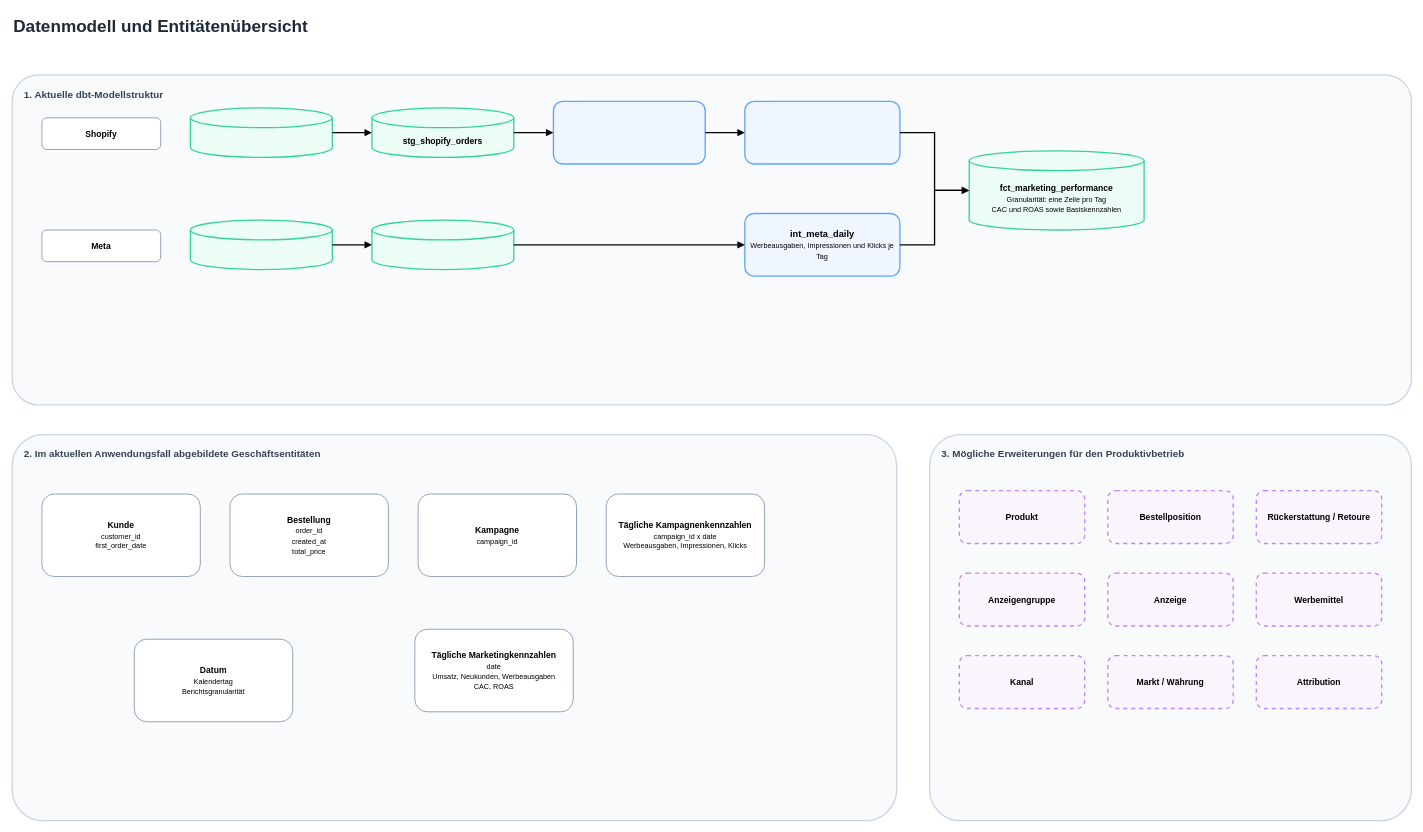
This 1423x832 diagram has some shape labels left out. The centre of each missing label's shape, as x and y in pixels:
int_customer_first_order erstes Bestelldatum je Kunde: the point at 629,132
int_shopify_daily Umsatz, Bestellungen und Neukunden je Tag: the point at 822,132
src_meta_insights: the point at 261,244
src_shopify_orders: the point at 261,132
stg_meta_insights: the point at 442,244
